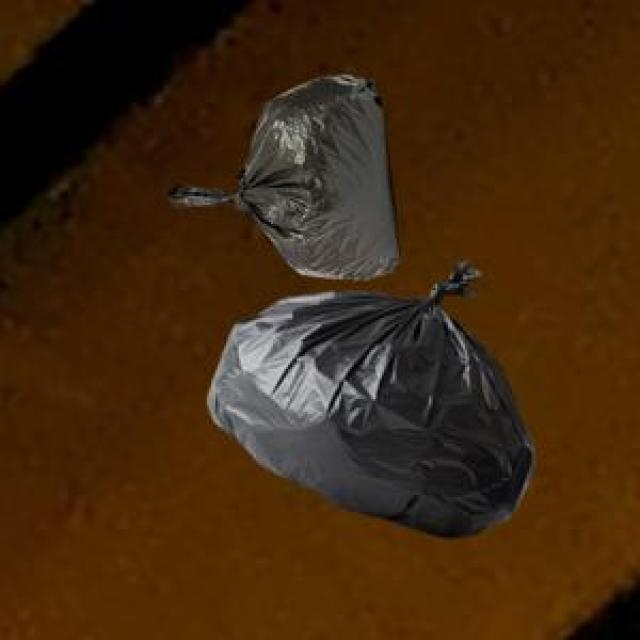Vinyl: (208, 262, 534, 536), (170, 78, 399, 278)
